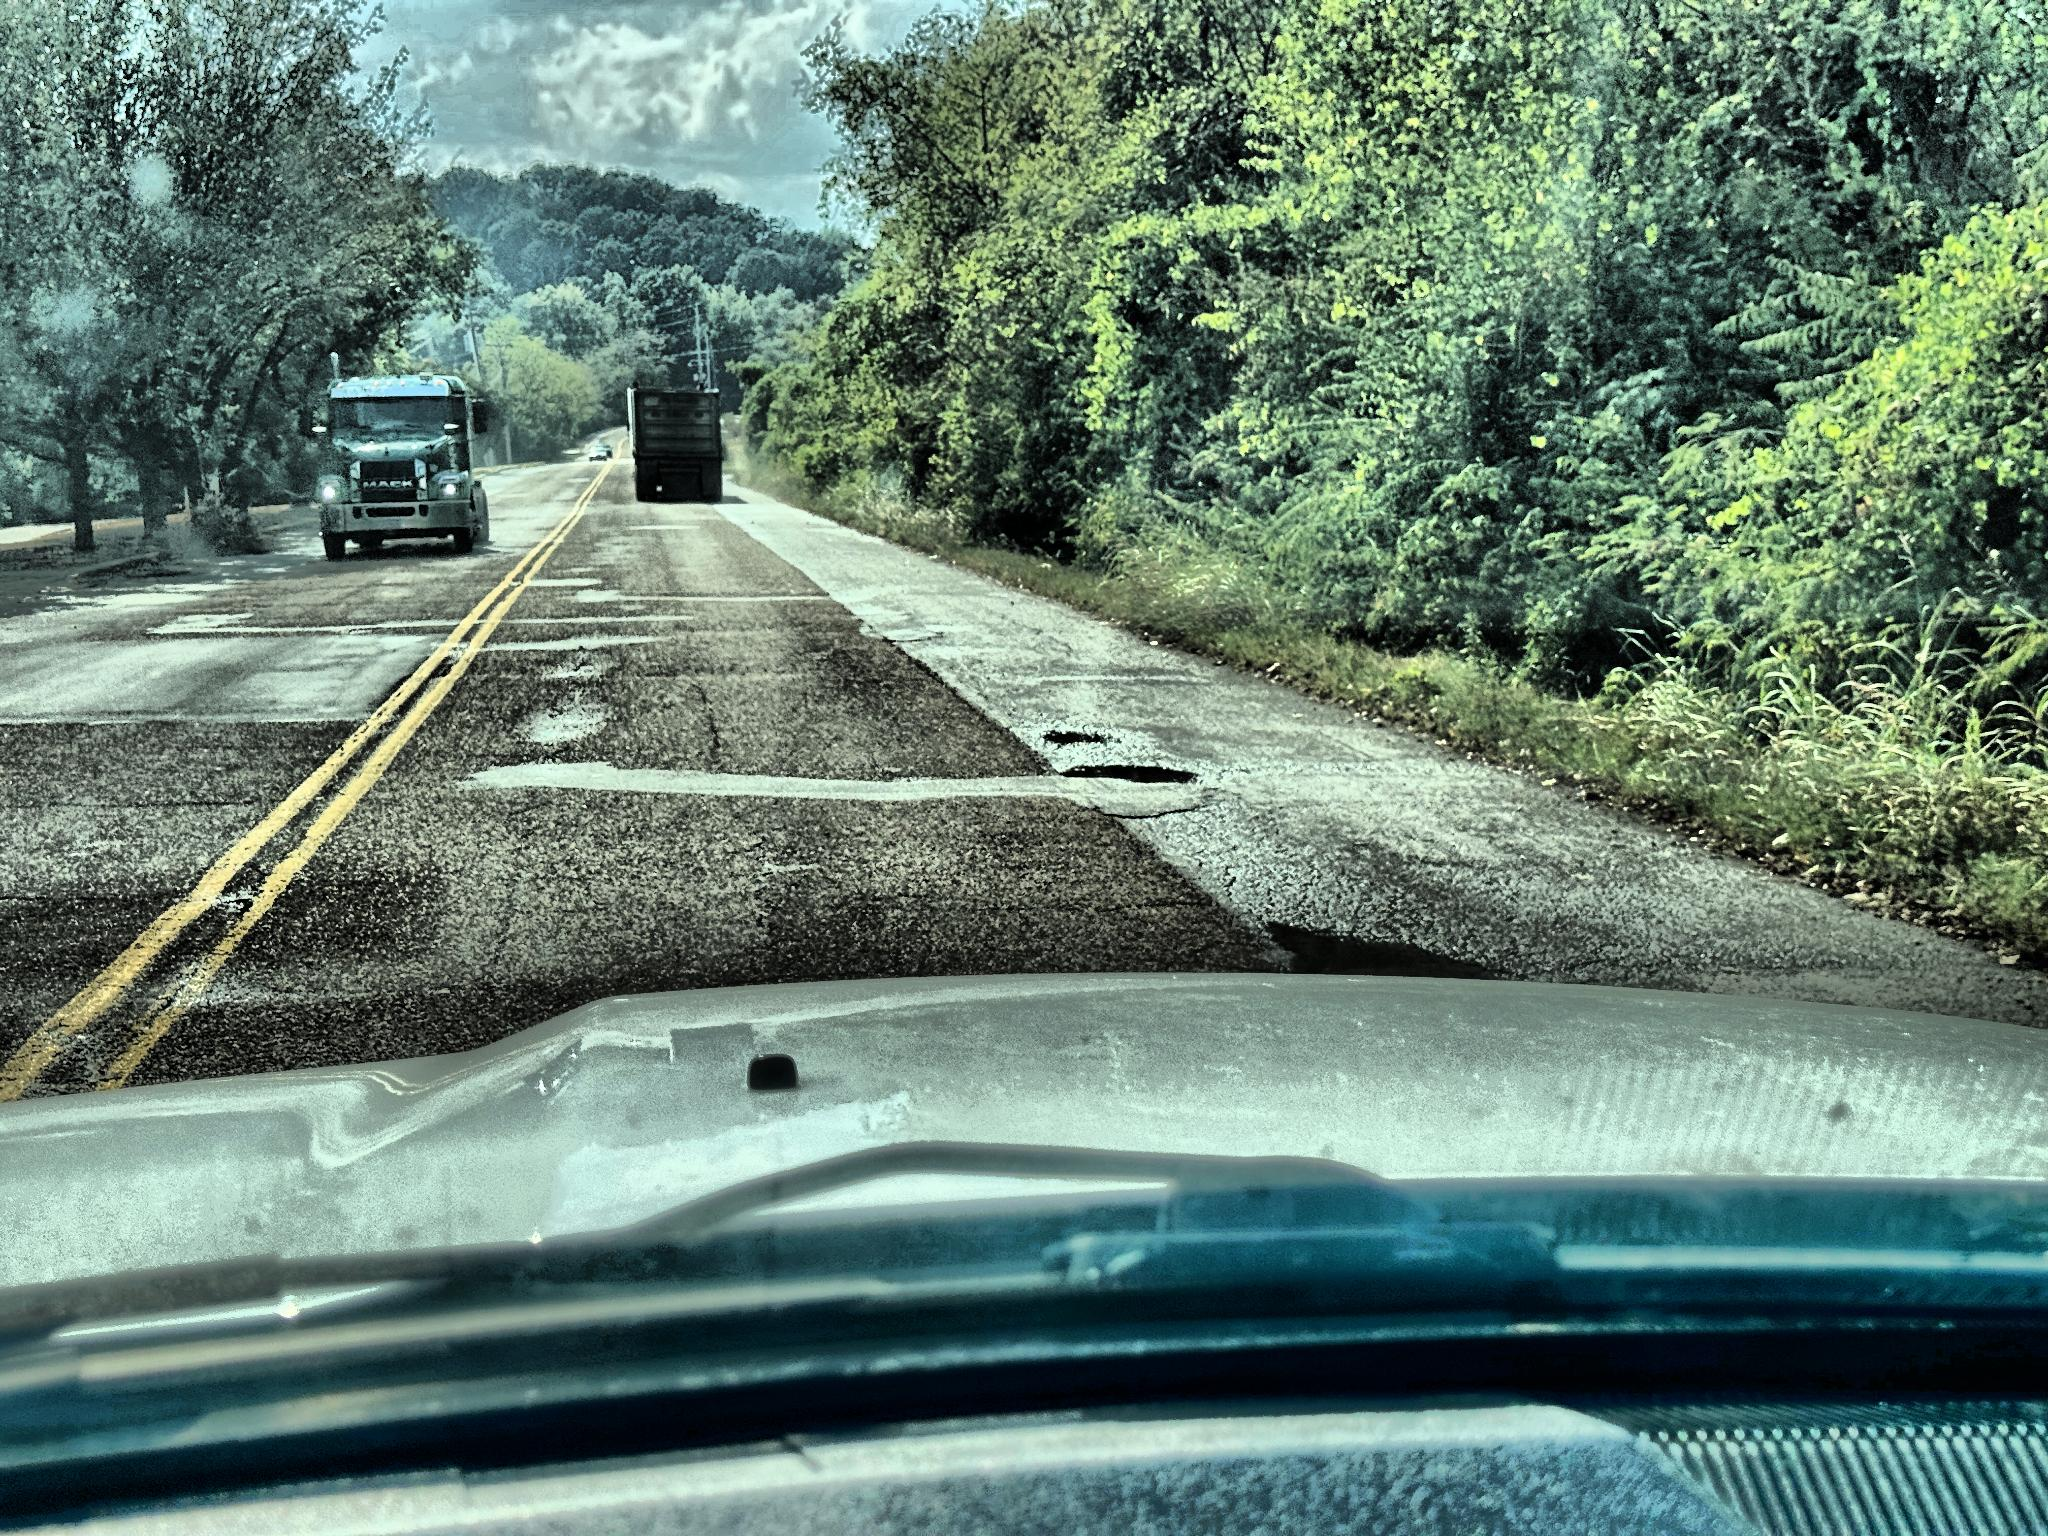pothole: (1265, 904, 1493, 978), (1039, 757, 1221, 792), (978, 732, 1208, 746), (1028, 722, 1128, 754)
